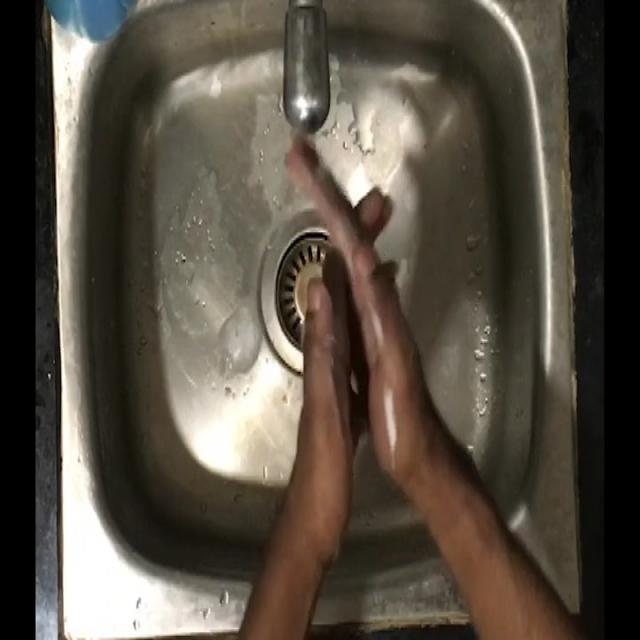step_3: (268, 130, 429, 540)
